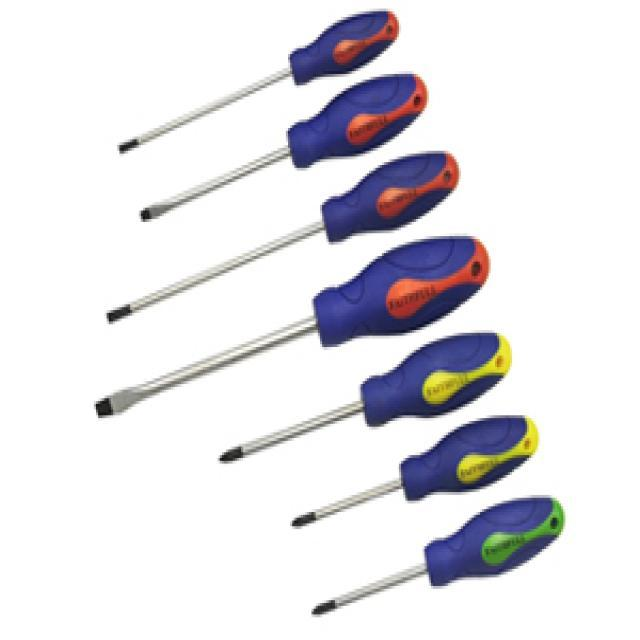screwdriver: (94, 229, 502, 433), (91, 144, 474, 330), (207, 320, 517, 500), (136, 68, 438, 229), (107, 3, 405, 165), (302, 488, 584, 634), (278, 407, 548, 550)
